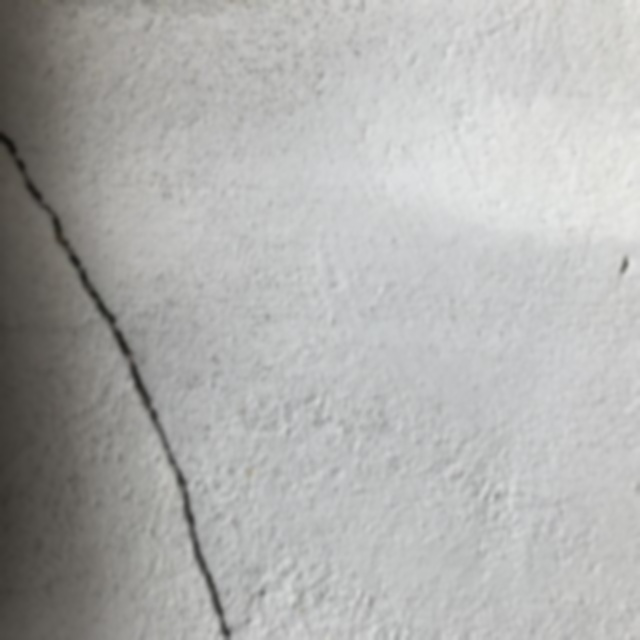SurfaceCrack: (0, 1, 257, 640)
